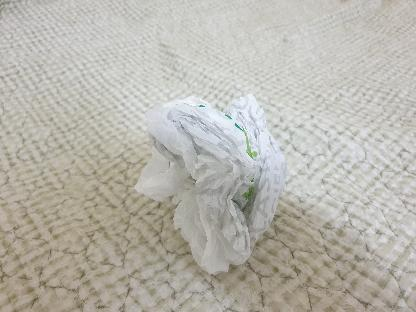Plastic Bag: (130, 90, 294, 278)
